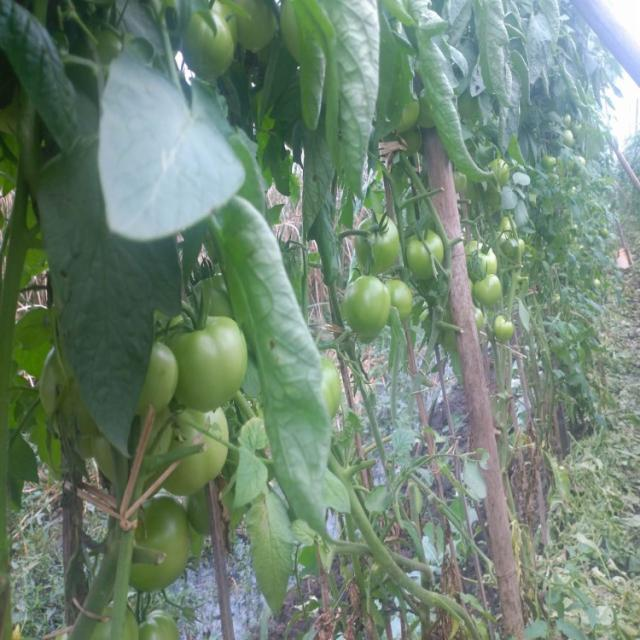tomato: (168, 302, 255, 413), (122, 495, 199, 588), (162, 401, 238, 490), (177, 10, 246, 101), (390, 223, 453, 291), (344, 265, 398, 343), (348, 201, 403, 266), (469, 229, 507, 284), (387, 273, 420, 323), (474, 273, 513, 314), (489, 311, 522, 347), (482, 147, 512, 185)
